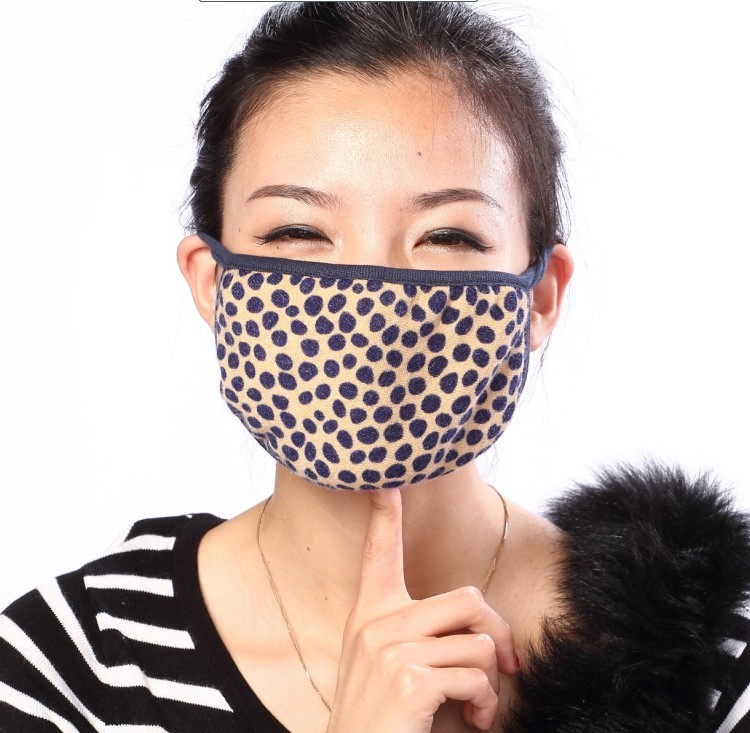face_mask: (215, 77, 526, 487)
